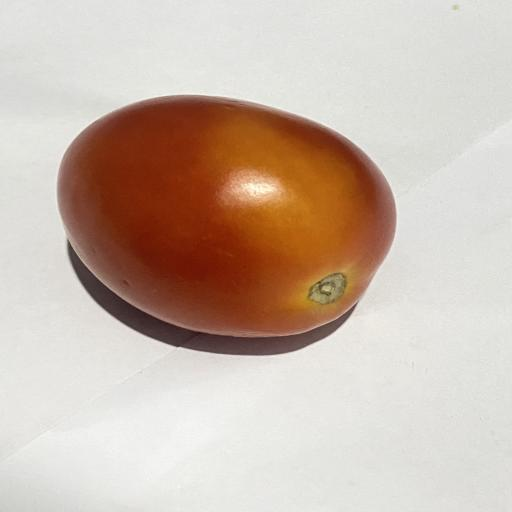ripe: (58, 95, 395, 337)
